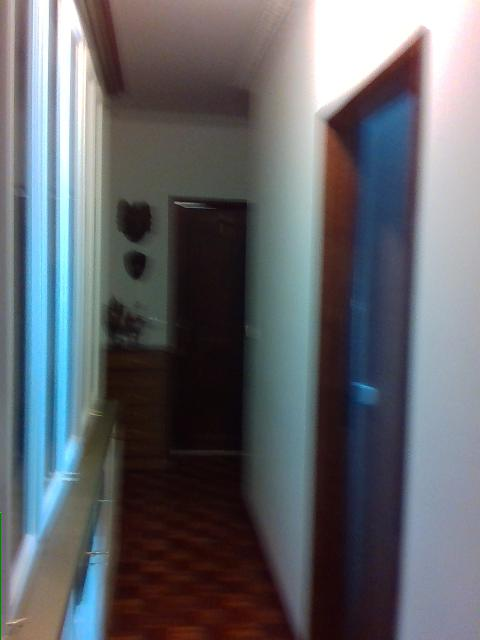closed_door: (165, 195, 247, 452)
